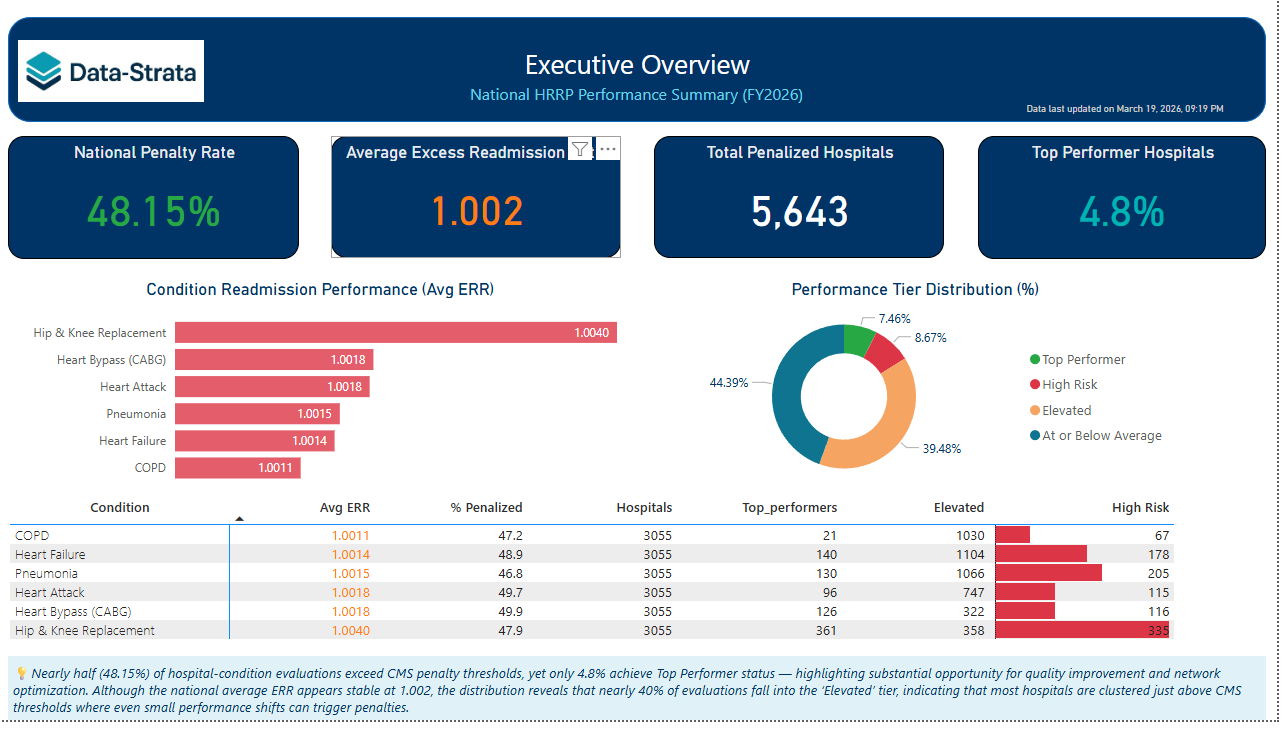

Layout of this report page (visuals, bound fields, positions):
{"tool":"powerbi","page":{"name":"Executive Overview","canvas":[1280,720],"ordinal":0},"visuals":[{"type":"group","id":"g1","title":"Group 2","box":[11,0,1258.3,141.8],"z":0},{"type":"group","id":"g2","title":"Group 1","box":[11,0,1258.3,141.8],"z":0,"group":"g1"},{"type":"shape","box":[11,17.1,1258.3,105.2],"z":0,"group":"g2"},{"type":"textbox","box":[413.8,40.4,452.4,57.5],"z":1000},{"type":"card","title":"National Penalty Rate","fields":{"Values":["_Measures.National Penalty Rate"]},"box":[10.7,136.1,291,122.7],"z":2000},{"type":"card","title":"Average Excess Readmission Ratio","fields":{"Values":["_Measures.Average ERR"]},"box":[334.4,135.9,290,122.3],"z":3000},{"type":"card","title":"Top Performer Hospitals","fields":{"Values":["_Measures.Top Performer %"]},"box":[980.6,136.1,288.4,122.7],"z":4000},{"type":"card","title":"Total Penalized Hospitals","fields":{"Values":["_Measures.Total Penalized"]},"box":[657.4,135.9,290,122.3],"z":5000},{"type":"textbox","box":[10.8,655.9,1257.8,63.7],"z":6000},{"type":"image","box":[20.8,0,185.9,141.8],"z":7000,"group":"g2"},{"type":"barChart","title":"Condition Readmission Performance (Avg ERR)","fields":{"Category":["vw_condition_summary.condition_short"],"Y":["_Measures.Average ERR"]},"box":[20.6,279.4,603.9,215.7],"z":7000},{"type":"donutChart","title":"Performance Tier Distribution (%)","fields":{"Category":["vw_top_bottom_performers.performance_tier"],"Y":["CountNonNull(vw_top_bottom_performers.provider_id)"]},"box":[656.9,279.4,522.5,215.7],"z":8000},{"type":"pivotTable","fields":{"Rows":["vw_condition_summary.condition_short"],"Values":["Sum(vw_condition_summary.avg_err)","Sum(vw_condition_summary.pct_penalized)","Sum(vw_condition_summary.total_hospitals)","Sum(vw_condition_summary.top_performers)","Sum(vw_condition_summary.elevated)","Sum(vw_condition_summary.high_risk)"]},"box":[10.8,495.1,1257.8,151],"z":9000},{"type":"textbox","box":[412.7,78.4,452.9,43.1],"z":10001},{"type":"card","fields":{"Values":["_Measures.Last Refresh"]},"box":[996.7,99.4,262.4,22.4],"z":15000,"group":"g1"}]}

Visuals, with their boxes in screenshot pixels (x1, y1, x2, y2), scaled from the page's 1280x720 canvas onto the 1284x738 screenshot:
"Group 2" group: box(11, 0, 1273, 145)
"Group 1" group: box(11, 0, 1273, 145)
shape: box(11, 18, 1273, 125)
textbox: box(415, 41, 869, 100)
"National Penalty Rate" card: box(11, 140, 303, 265)
"Average Excess Readmission Ratio" card: box(335, 139, 626, 265)
"Top Performer Hospitals" card: box(984, 140, 1273, 265)
"Total Penalized Hospitals" card: box(659, 139, 950, 265)
textbox: box(11, 672, 1273, 737)
image: box(21, 0, 207, 145)
"Condition Readmission Performance (Avg ERR)" barChart: box(21, 286, 626, 507)
"Performance Tier Distribution (%)" donutChart: box(659, 286, 1183, 507)
pivotTable - vw_condition_summary.condition_short x Sum(vw_condition_summary.avg_err): box(11, 507, 1273, 662)
textbox: box(414, 80, 868, 125)
card - _Measures.Last Refresh: box(1000, 102, 1263, 125)
